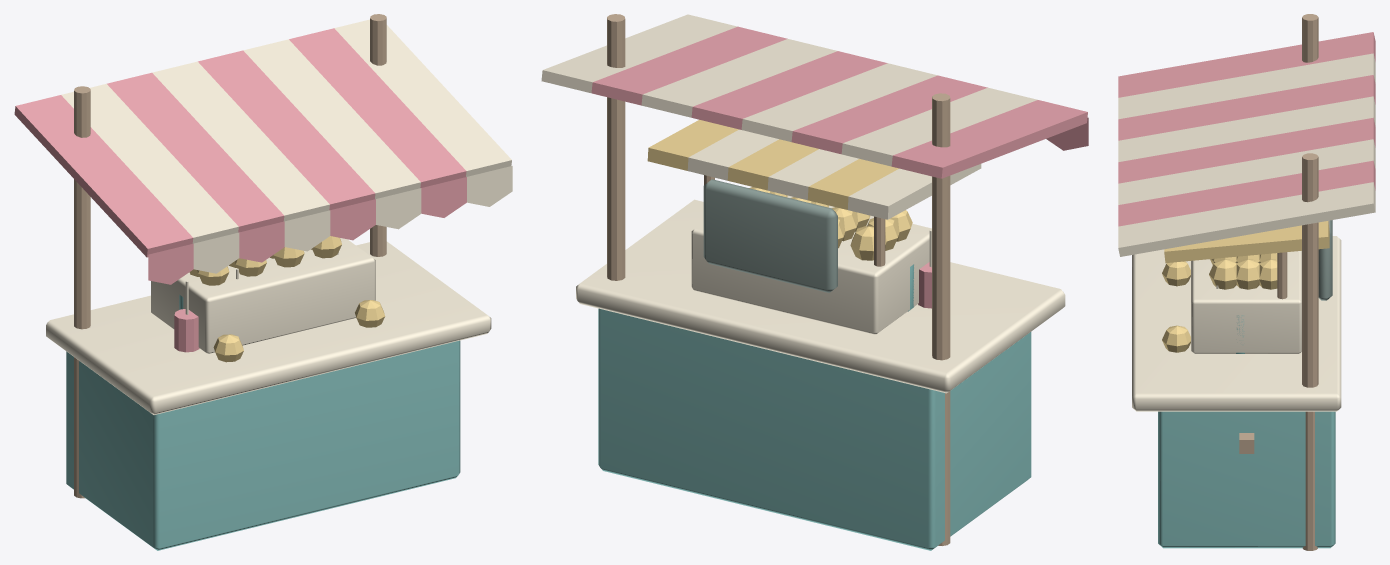
Rendered from carnival-dressing.glb.
3 views of the same model, side by side, from view 1: azimuth 30°, elevation 25°; view 2: azimuth 150°, elevation 25°; view 3: azimuth 270°, elevation 25° (orthographic). The views are drawn at different scales.
Parts seen in each view (by area): view 1: LemonadeStall_mesh, PopcornCart_mesh; view 2: LemonadeStall_mesh, PopcornCart_mesh; view 3: LemonadeStall_mesh, PopcornCart_mesh.
Boxes of the visible parts, x1,y1,x2,y2 form: LemonadeStall_mesh: (14,14,512,550); PopcornCart_mesh: (151,236,375,353); LemonadeStall_mesh: (541,14,1088,550); PopcornCart_mesh: (647,119,981,334); LemonadeStall_mesh: (1118,14,1375,550); PopcornCart_mesh: (1164,220,1329,453).
Size of the model in its own units: 3.2 by 3.4 by 2.03.
